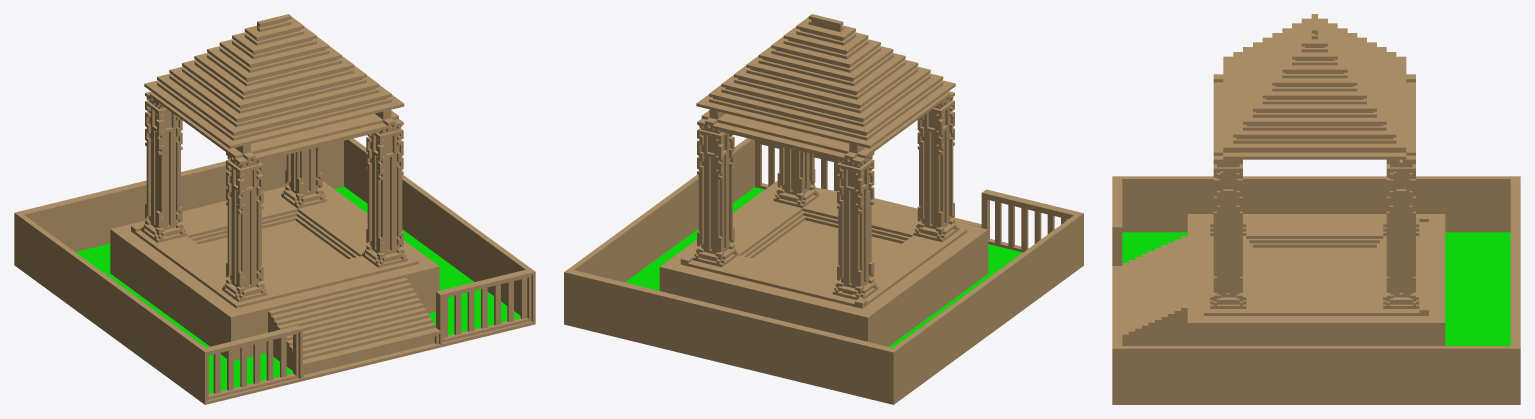
Rendered from asset.glb.
3 renders of one model, left to right at view 1: azimuth 30°, elevation 25°; view 2: azimuth 150°, elevation 25°; view 3: azimuth 270°, elevation 25°, orthographic. The views are drawn at different scales.
Parts seen in each view (by area): view 1: ObjObject; view 2: ObjObject; view 3: ObjObject.
Boxes of the visible parts, bbox=[...] form: ObjObject: bbox=[14, 14, 535, 404]; ObjObject: bbox=[564, 14, 1083, 404]; ObjObject: bbox=[1112, 14, 1520, 404].
Bounding box in the file's own units: 12.5 × 10 × 12.5.
1 material, 1 textured.
